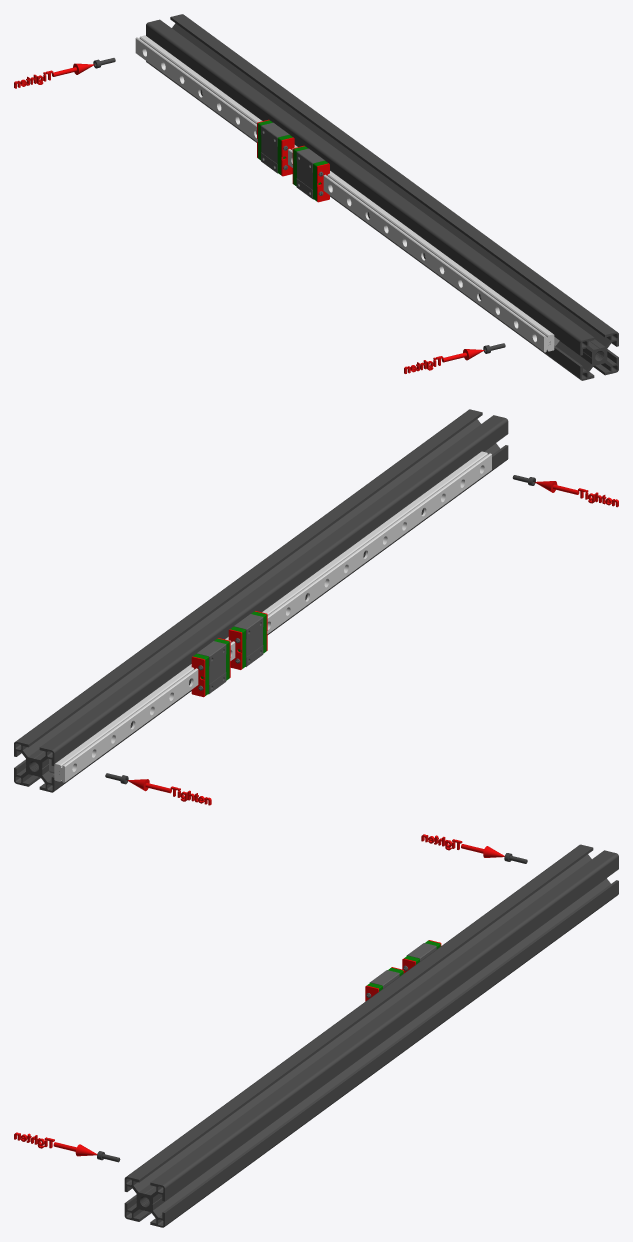
3 views of the same model, one above another, from view 1: azimuth 30°, elevation 25°; view 2: azimuth 150°, elevation 25°; view 3: azimuth 330°, elevation 25° (orthographic). The views are drawn at different scales.
Visible parts, largest first — view 1: 01_02__XP__Alu_3030_Beam_1___V1.0 v14, MGNR12R550HM_FILE_2 v3, MGN12CZ0HM_FILE_3 v002, MGN12CZ0HM_FILE_3 v1; view 2: 01_02__XP__Alu_3030_Beam_1___V1.0 v14, MGNR12R550HM_FILE_2 v3, MGN12CZ0HM_FILE_3 v1, MGN12CZ0HM_FILE_3 v002; view 3: 01_02__XP__Alu_3030_Beam_1___V1.0 v14, MGN12CZ0HM_FILE_3 v002, MGN12CZ0HM_FILE_3 v1.
Boxes of the visible parts, bbox=[...] form: 01_02__XP__Alu_3030_Beam_1___V1.0 v14: bbox=[146, 14, 618, 380]; MGNR12R550HM_FILE_2 v3: bbox=[135, 35, 554, 352]; MGN12CZ0HM_FILE_3 v002: bbox=[292, 145, 329, 202]; MGN12CZ0HM_FILE_3 v1: bbox=[257, 119, 294, 176]; 01_02__XP__Alu_3030_Beam_1___V1.0 v14: bbox=[14, 409, 508, 792]; MGNR12R550HM_FILE_2 v3: bbox=[54, 451, 491, 782]; MGN12CZ0HM_FILE_3 v1: bbox=[191, 638, 230, 697]; MGN12CZ0HM_FILE_3 v002: bbox=[228, 611, 267, 669]; 01_02__XP__Alu_3030_Beam_1___V1.0 v14: bbox=[124, 844, 618, 1227]; MGN12CZ0HM_FILE_3 v002: bbox=[365, 967, 404, 1001]; MGN12CZ0HM_FILE_3 v1: bbox=[402, 940, 441, 972].
Bounding box in the file's own units: 0.1392 × 0.03 × 0.585.
